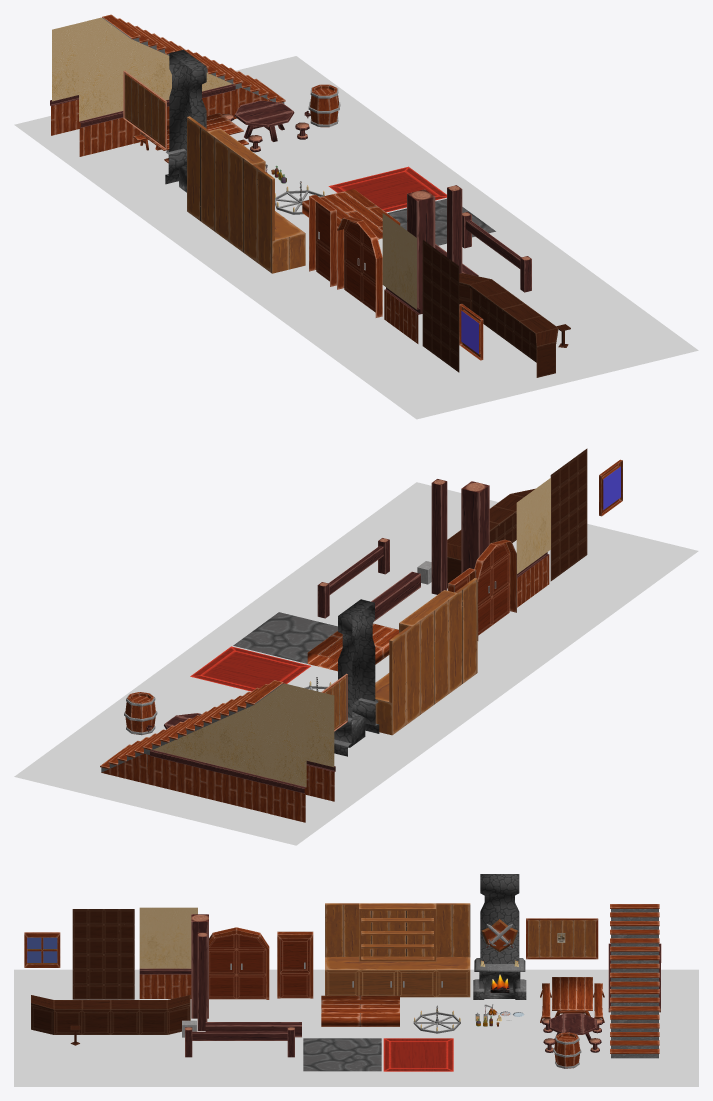
Rendered from TabernAssets.fbx.
3 views of the same model, one above another, from view 1: azimuth 30°, elevation 25°; view 2: azimuth 150°, elevation 25°; view 3: azimuth 270°, elevation 25° (orthographic). The views are drawn at different scales.
Parts seen in each view (by area): view 1: Plane.006, Escaleras.002, BaseCube.003, BarraBar.002, Plane.005, Wall1.022, ChimeneaMK1.002, PuertaDoble.002, Carpetlong.001, Ventana.006, Puerta.007, Mesa2.003 (+8 smaller); view 2: Plane.006, Escaleras.002, BaseCube.003, ChimeneaMK1.002, Plane.005, Wall1.022, PuertaDoble.002, Carpetlong.001, Plane, Viga.005, BarraBar.002, Escaleras.001 (+6 smaller); view 3: Plane.006, BaseCube.003, Escaleras.002, Plane.005, BarraBar.002, Wall1.022, ChimeneaMK1.002, PuertaDoble.002, Ventana.006, Plane, SueloTablas.001, Puerta.007 (+11 smaller).
Boxes of the visible parts, bbox=[...] form: Plane.006: bbox=[14, 56, 698, 419]; Escaleras.002: bbox=[50, 14, 285, 156]; BaseCube.003: bbox=[187, 116, 305, 273]; BarraBar.002: bbox=[459, 273, 558, 377]; Plane.005: bbox=[422, 240, 459, 372]; Wall1.022: bbox=[382, 213, 420, 343]; ChimeneaMK1.002: bbox=[165, 49, 206, 192]; PuertaDoble.002: bbox=[337, 216, 382, 317]; Carpetlong.001: bbox=[328, 166, 446, 212]; Ventana.006: bbox=[123, 70, 166, 149]; Puerta.007: bbox=[309, 194, 336, 286]; Mesa2.003: bbox=[222, 100, 309, 152]; Plane.006: bbox=[14, 482, 698, 845]; Escaleras.002: bbox=[100, 680, 335, 822]; BaseCube.003: bbox=[375, 578, 477, 735]; ChimeneaMK1.002: bbox=[334, 599, 379, 756]; Plane.005: bbox=[550, 448, 587, 581]; Wall1.022: bbox=[516, 478, 550, 607]; PuertaDoble.002: bbox=[474, 539, 516, 640]; Carpetlong.001: bbox=[190, 646, 310, 691]; Plane: bbox=[233, 612, 337, 663]; Viga.005: bbox=[461, 481, 489, 573]; BarraBar.002: bbox=[447, 488, 535, 588]; Escaleras.001: bbox=[431, 479, 447, 594]; Plane.006: bbox=[14, 969, 698, 1086]; BaseCube.003: bbox=[325, 903, 470, 997]; Escaleras.002: bbox=[608, 904, 661, 1058]; Plane.005: bbox=[72, 909, 134, 999]; BarraBar.002: bbox=[31, 995, 190, 1034]; Wall1.022: bbox=[139, 907, 197, 998]; ChimeneaMK1.002: bbox=[473, 874, 526, 999]; PuertaDoble.002: bbox=[209, 927, 269, 999]; Ventana.006: bbox=[526, 918, 598, 959]; Plane: bbox=[303, 1038, 381, 1071]; SueloTablas.001: bbox=[321, 995, 399, 1026]; Puerta.007: bbox=[277, 931, 313, 998].
Bounding box in the file's own units: 1170 × 542 × 2891.
